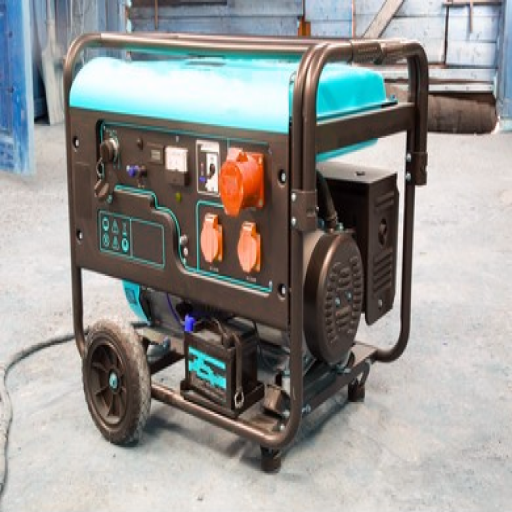portable_generator: (63, 30, 426, 446)
